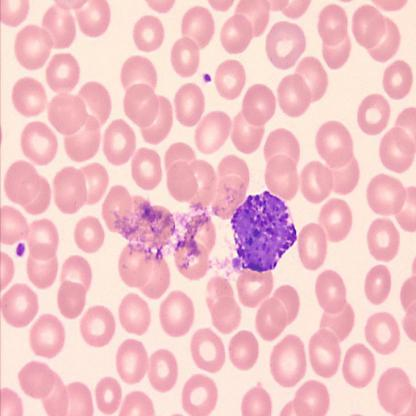Basophil: (231, 187, 299, 275)
